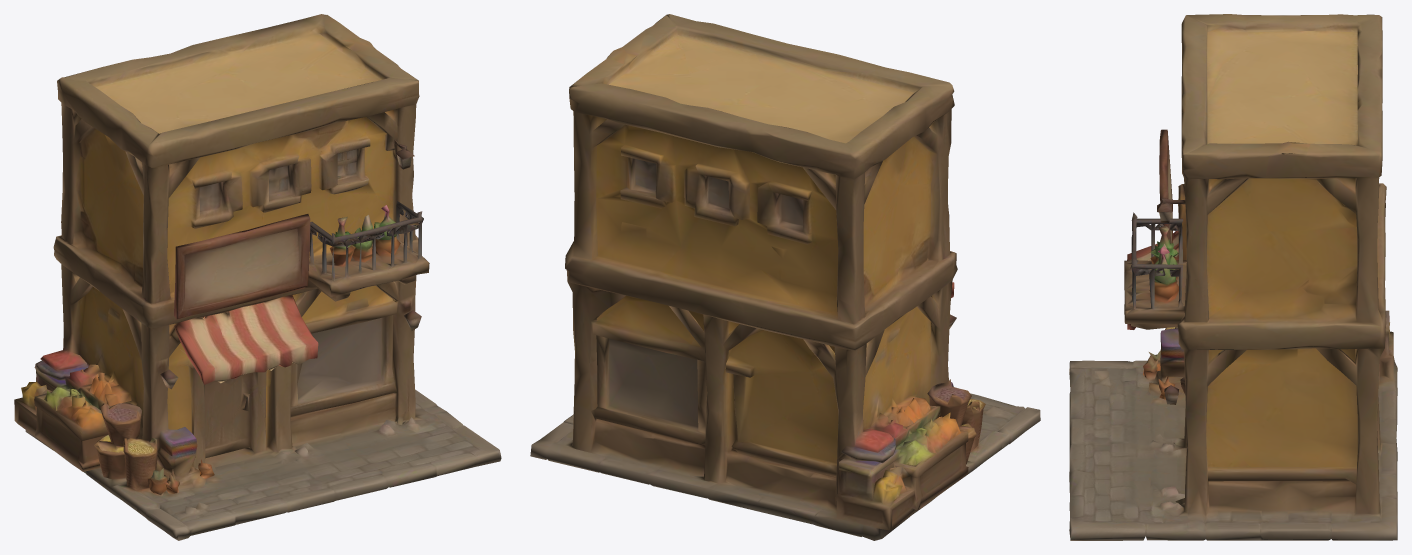
Rendered from anambra_shopfront_b.glb.
3 renders of one model, left to right at view 1: azimuth 30°, elevation 25°; view 2: azimuth 150°, elevation 25°; view 3: azimuth 270°, elevation 25°, orthographic. The views are drawn at different scales.
Parts seen in each view (by area): view 1: tripo_node_5bd2490a-8781-418d-89aa-fd311b4ec606; view 2: tripo_node_5bd2490a-8781-418d-89aa-fd311b4ec606; view 3: tripo_node_5bd2490a-8781-418d-89aa-fd311b4ec606.
Boxes of the visible parts, x1,y1,x2,y2 form: tripo_node_5bd2490a-8781-418d-89aa-fd311b4ec606: (14, 14, 501, 540); tripo_node_5bd2490a-8781-418d-89aa-fd311b4ec606: (530, 14, 1040, 540); tripo_node_5bd2490a-8781-418d-89aa-fd311b4ec606: (1069, 14, 1397, 540).
Size of the model in its own units: 1 by 0.9961 by 0.7877.
Materials: 1 (1 with a texture image).
